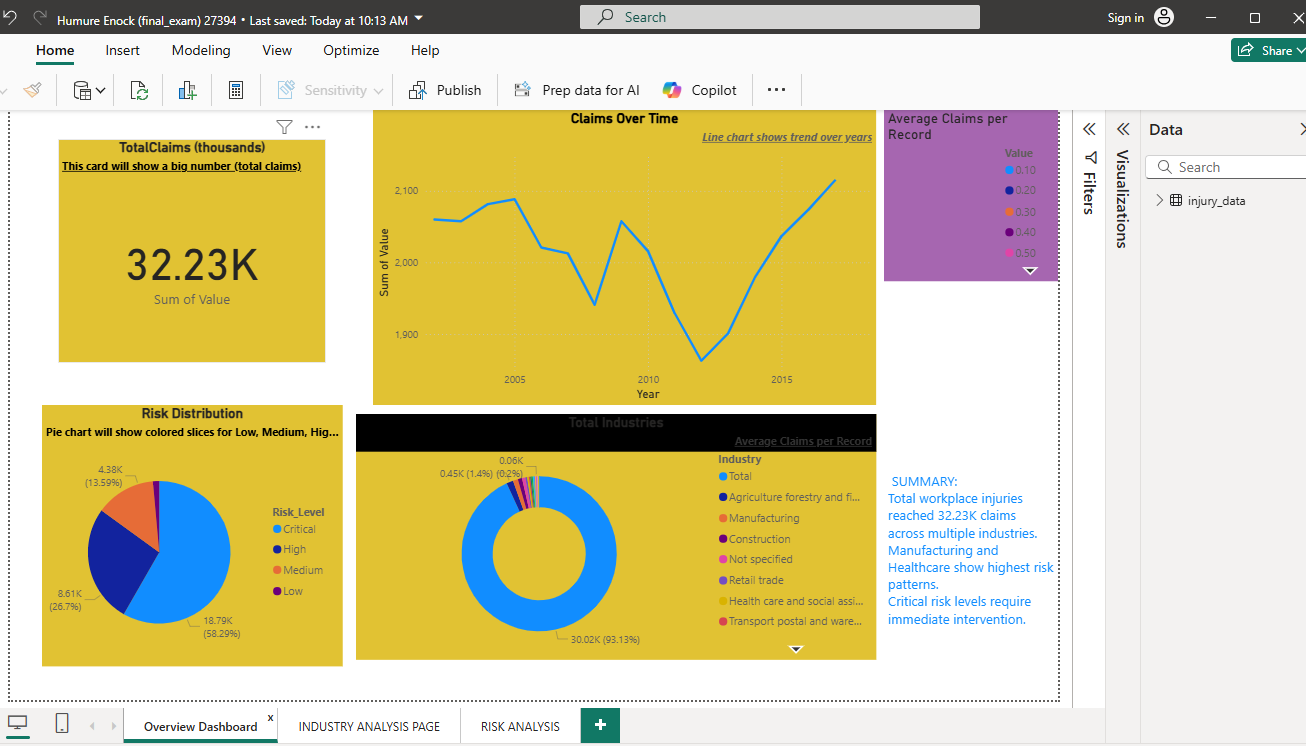

The dashboard page shown, as its layout file describes it:
{"tool":"powerbi","page":{"name":"Overview Dashboard","canvas":[1280,720],"ordinal":0},"visuals":[{"type":"card","title":"TotalClaims (thousands)","fields":{"Values":["Sum(injury_data.Value)"]},"box":[58.6,35.7,327.1,272.9],"z":0},{"type":"pieChart","title":"Risk Distribution","fields":{"Category":["injury_data.Risk_Level"],"Y":["Sum(injury_data.Value)"]},"box":[38.6,360,367.1,318.6],"z":1000},{"type":"lineChart","title":"Claims Over Time","fields":{"Category":["injury_data.Year"],"Y":["Sum(injury_data.Value)"]},"box":[442.9,0,614.3,360],"z":2000},{"type":"donutChart","title":"Average Claims per Record","fields":{"Category":["injury_data.Value"]},"box":[1066.7,0,213.3,209.2],"z":3000},{"type":"donutChart","title":"Total Industries","fields":{"Category":["injury_data.Industry"],"Y":["Sum(injury_data.Value)"]},"box":[422,371,635,300],"z":4000},{"type":"textbox","box":[1066.7,436.3,213.3,264.3],"z":5000}]}

Visuals, with their boxes on the page's 1280x720 design canvas (x1, y1, x2, y2). These are canvas units, not pixel positions in the 1306x746 screenshot, which may show the page scaled, cropped or inside an application window:
"TotalClaims (thousands)" card: box(59, 36, 386, 309)
"Risk Distribution" pieChart: box(39, 360, 406, 679)
"Claims Over Time" lineChart: box(443, 0, 1057, 360)
"Average Claims per Record" donutChart: box(1067, 0, 1280, 209)
"Total Industries" donutChart: box(422, 371, 1057, 671)
textbox: box(1067, 436, 1280, 701)
